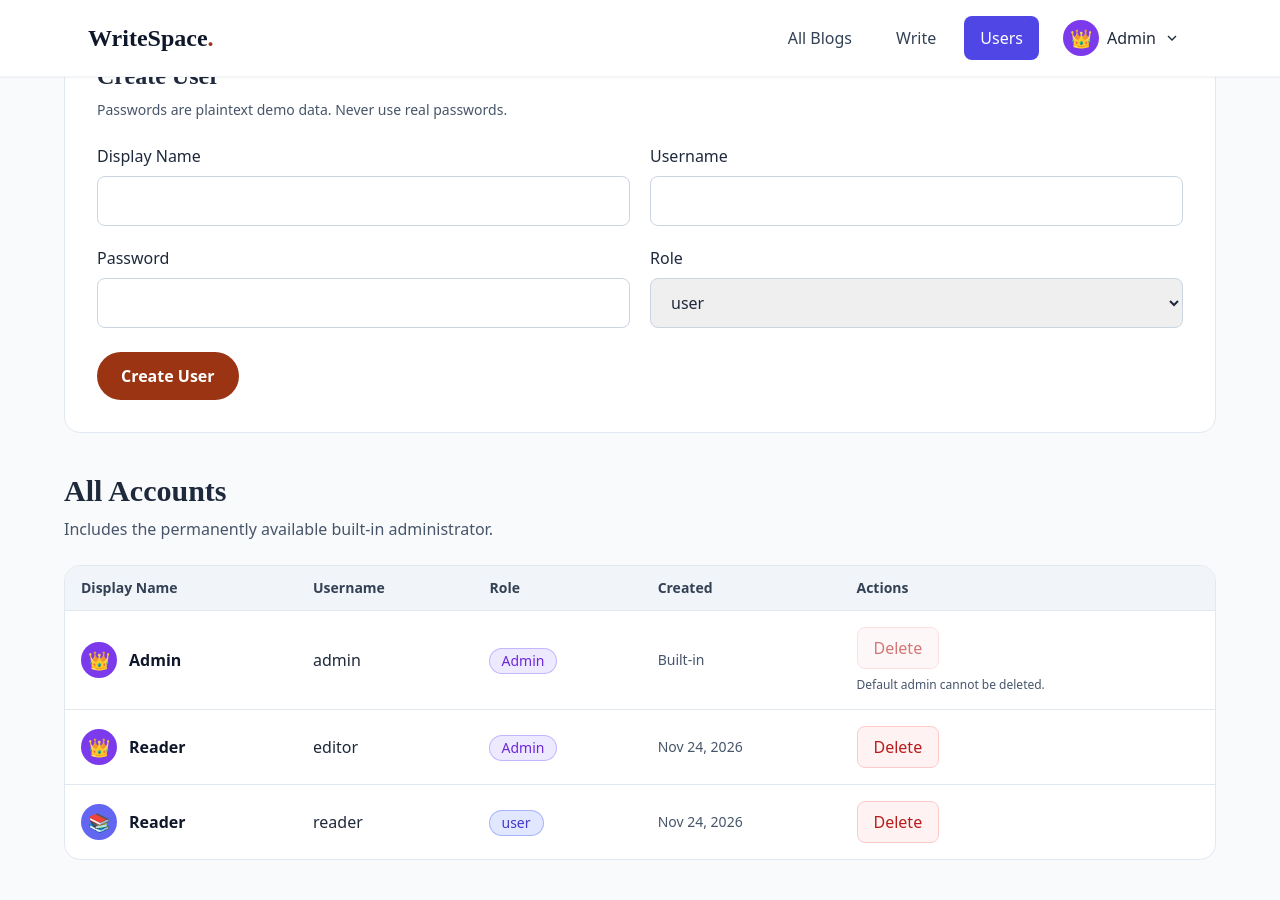
rechecks account identity/target logout during confirmation
(page scrolled)
Click the button "Delete" in the row of "editor" at coordinates (898, 747), box x1=856 y1=726 x2=939 y2=768
(page scrolled)
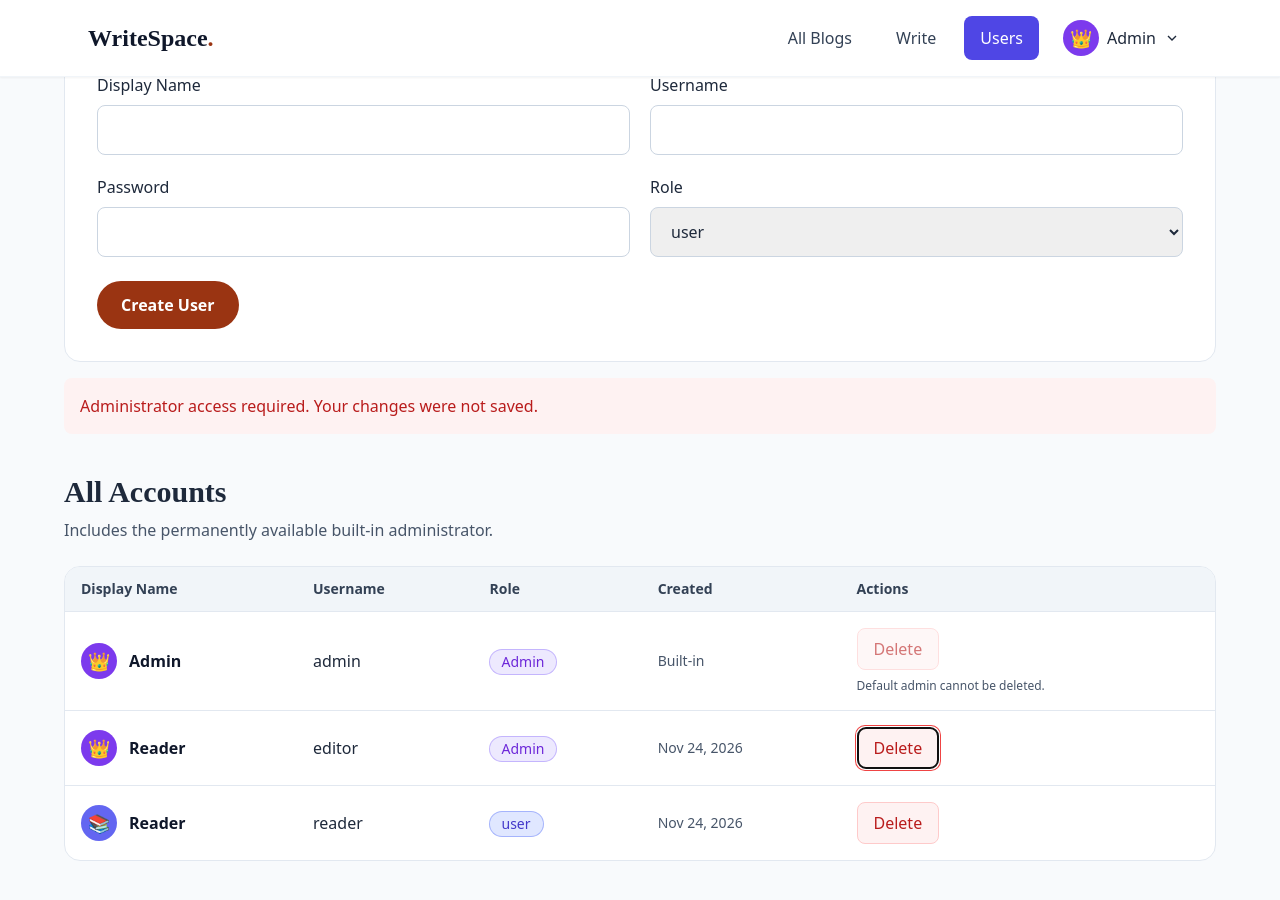
Check: the message shows "Administrator", box x1=80 y1=395 x2=538 y2=417
